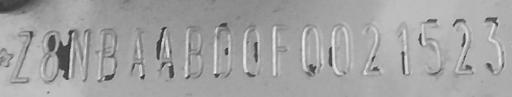letter: (447, 14, 483, 85), (62, 25, 100, 90), (4, 22, 40, 85), (414, 15, 446, 84), (389, 18, 419, 87), (478, 14, 510, 77), (326, 20, 358, 83), (208, 20, 240, 81), (120, 25, 152, 86), (238, 20, 268, 85), (296, 20, 326, 85), (178, 24, 208, 83), (94, 25, 124, 84), (357, 22, 387, 79), (264, 23, 294, 80), (151, 25, 179, 84), (37, 26, 63, 87)
